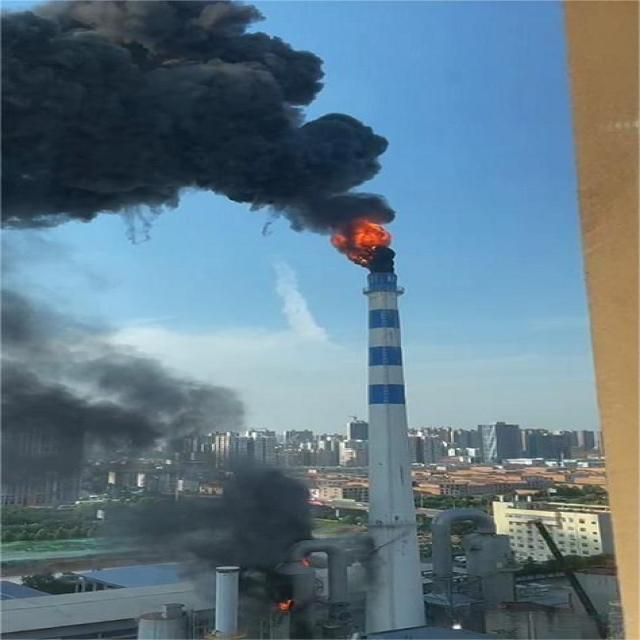Fire: (326, 220, 391, 264)
Smoke: (0, 0, 390, 220)
